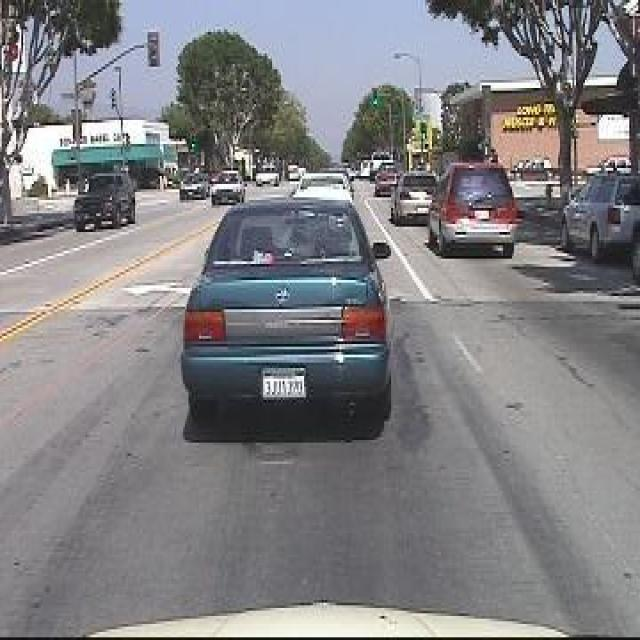car_back: (177, 194, 401, 444), (428, 155, 520, 263), (557, 162, 640, 266), (392, 167, 440, 230), (372, 160, 402, 198)
car_front: (71, 167, 139, 237), (209, 168, 249, 208), (178, 168, 209, 205), (254, 160, 284, 190)
